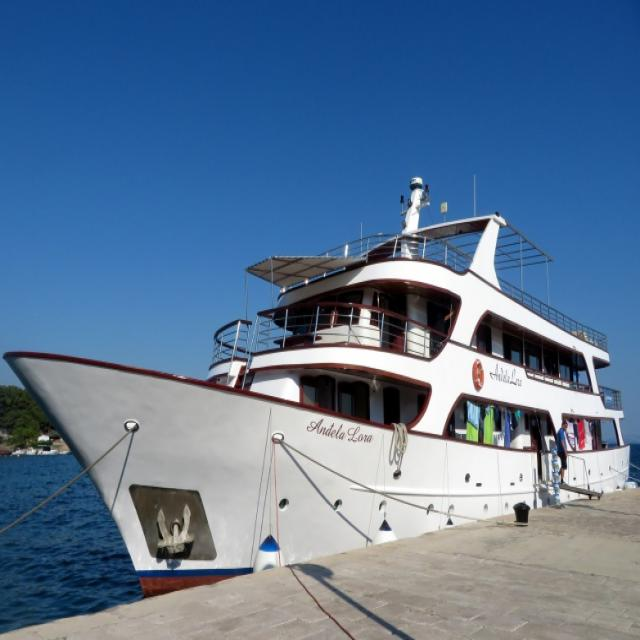cruises: (1, 174, 634, 598)
